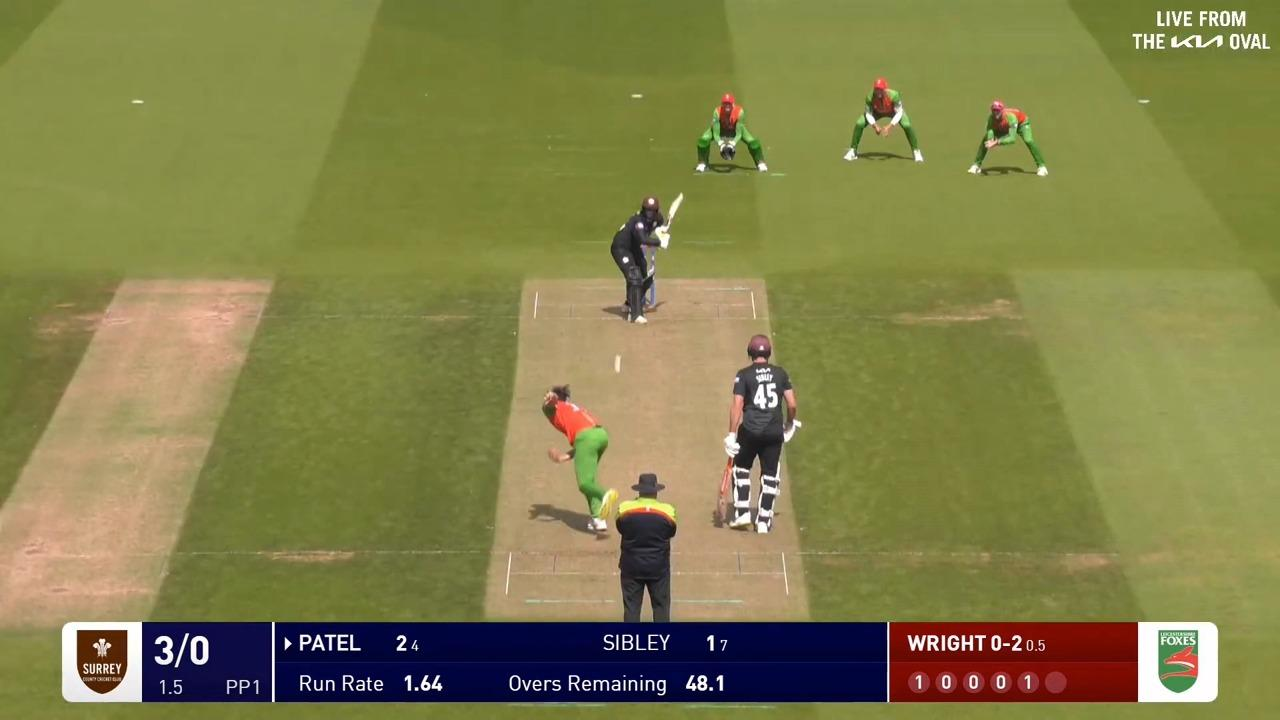sports ball: (615, 356, 620, 372)
